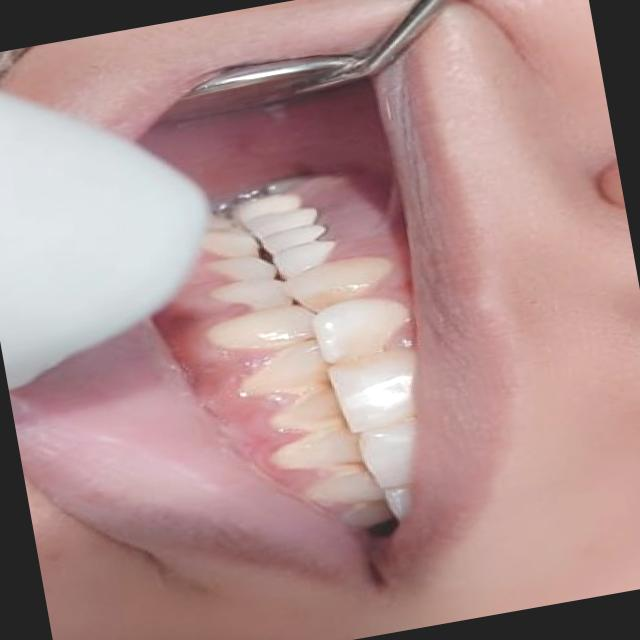No Cancer: (173, 121, 464, 512)
